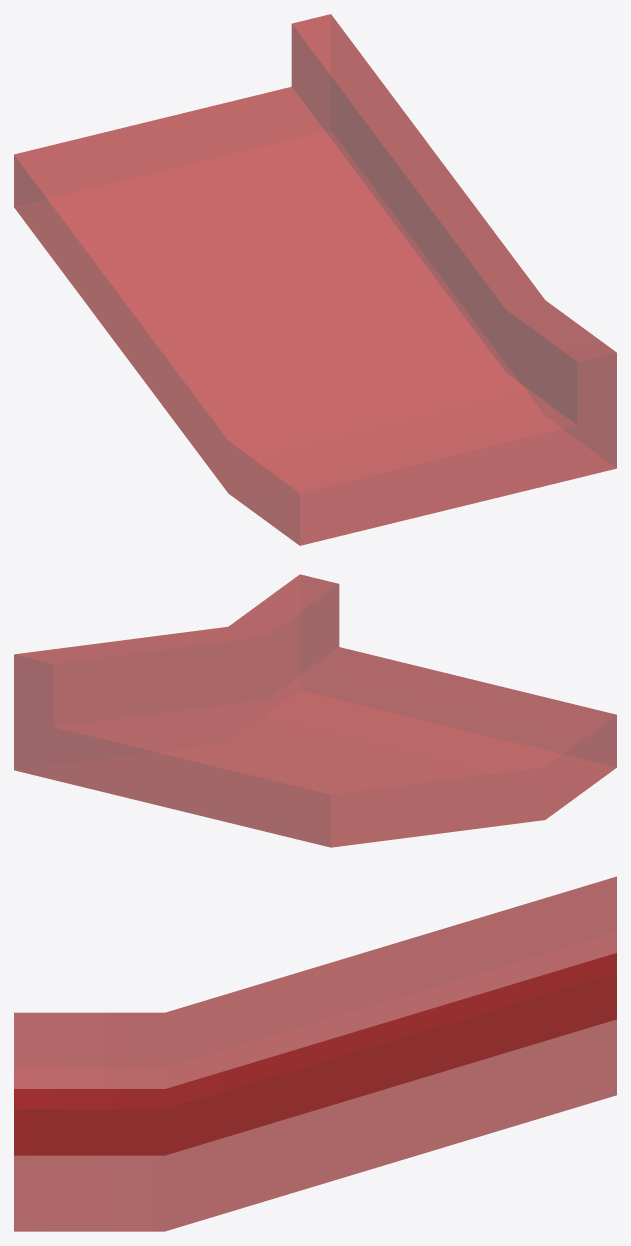
Rendered from SM_Env_Motorway_Ramp_Edge_01_Collision.fbx.
3 renders of one model, top to bottom at view 1: azimuth 30°, elevation 25°; view 2: azimuth 150°, elevation 25°; view 3: azimuth 270°, elevation 25°, orthographic. The views are drawn at different scales.
Visible parts, largest first — view 1: SM_Env_Motorway_Ramp_Edge_01_Collision; view 2: SM_Env_Motorway_Ramp_Edge_01_Collision; view 3: SM_Env_Motorway_Ramp_Edge_01_Collision.
Part boxes in pixels (x1,y1,x2,y2): SM_Env_Motorway_Ramp_Edge_01_Collision: (14,14,616,545); SM_Env_Motorway_Ramp_Edge_01_Collision: (14,574,616,847); SM_Env_Motorway_Ramp_Edge_01_Collision: (14,876,616,1231).
Size of the model in its own units: 640 by 473 by 1000.
